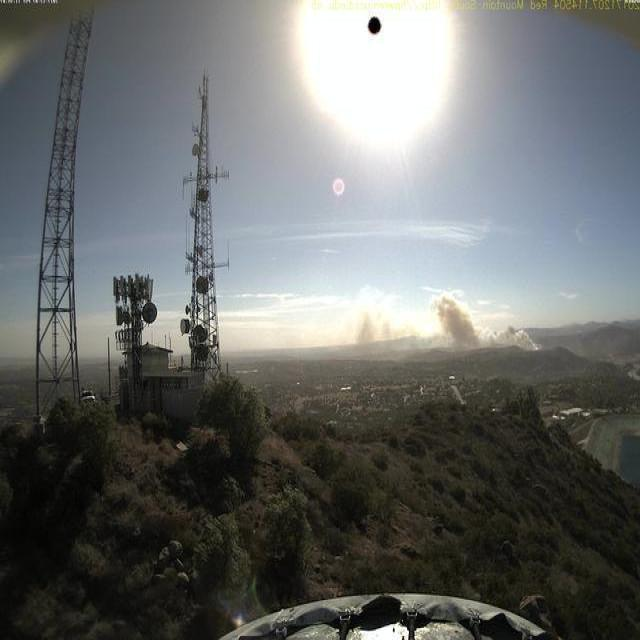Smoke: (429, 279, 541, 357)
